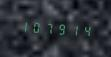four: (78, 21, 89, 39)
nine: (54, 19, 65, 37)
one: (17, 17, 28, 35), (66, 20, 77, 38)
seven: (42, 19, 53, 36)
zero: (29, 18, 40, 35)
